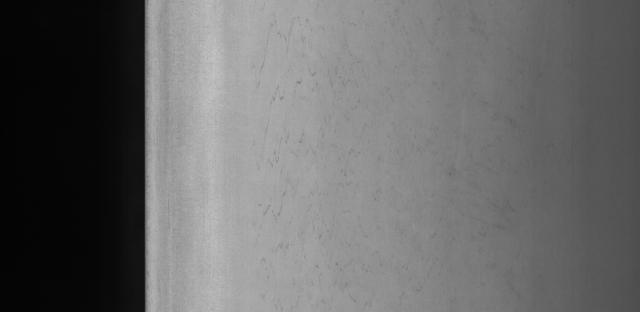silk_spot: (251, 20, 388, 286)
